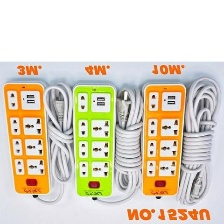three_eye_plug: (1, 78, 54, 196), (138, 79, 188, 199), (70, 80, 120, 198)
